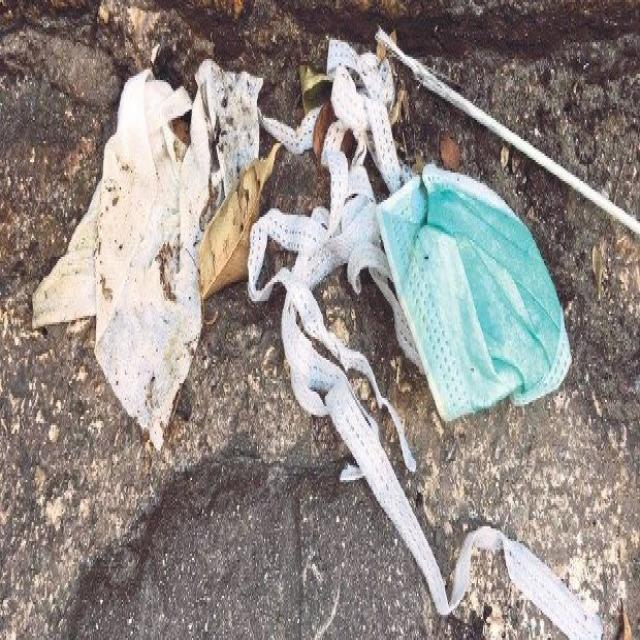non-organic waste: (373, 164, 574, 421)
